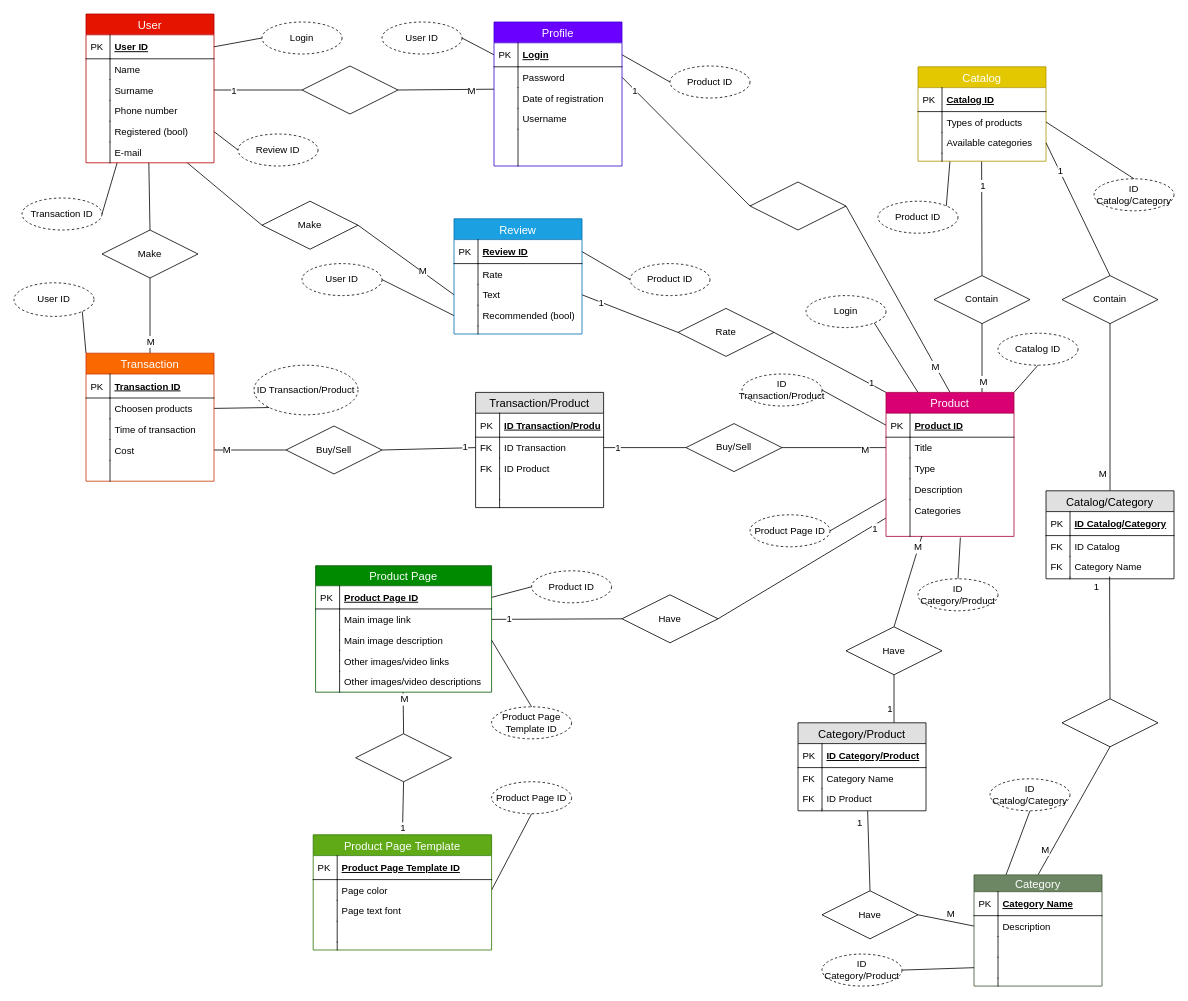
The diagram is 1188 pixels wide and 1001 high, and some of its shapes have lost their labels. Each missing label, with the centre of its shape:
Add/Remove: [797,205]
Create: [349,89]
Is in: [1109,722]
Use: [403,757]
